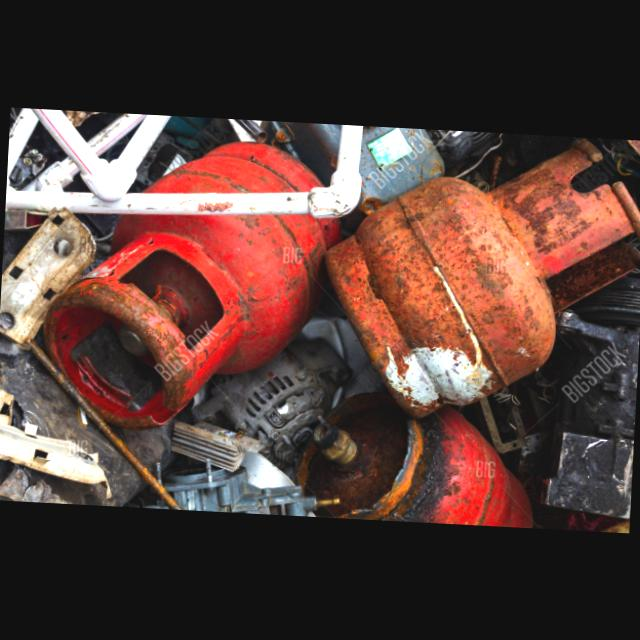Cylinders: (40, 133, 343, 430), (329, 136, 640, 424)
